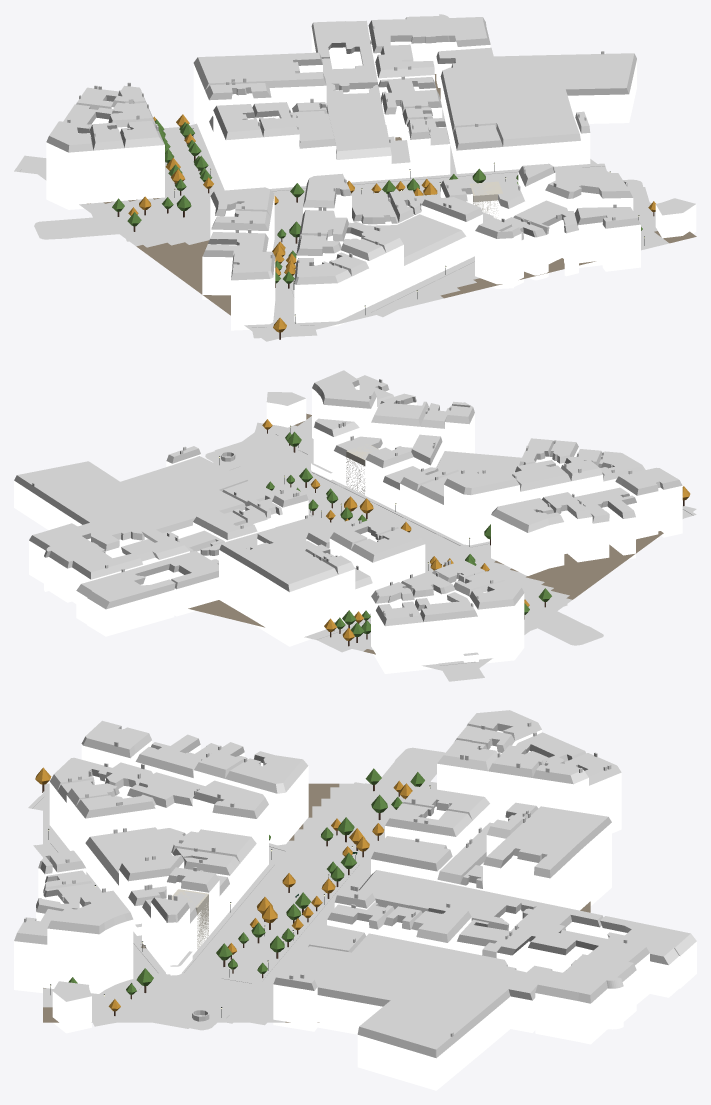
File: zone_A3.glb
The picture shows the model from 3 angles, top to bottom: view 1: azimuth 30°, elevation 25°; view 2: azimuth 150°, elevation 25°; view 3: azimuth 270°, elevation 25°; orthographic projection. The views are drawn at different scales.
Parts seen in each view (by area): view 1: zone_A3_batiments, zone_A3_sol_NOCOL, zone_A3_terrain, zone_A3_decor_NOCOL; view 2: zone_A3_batiments, zone_A3_sol_NOCOL, zone_A3_terrain, zone_A3_decor_NOCOL; view 3: zone_A3_batiments, zone_A3_sol_NOCOL, zone_A3_decor_NOCOL, zone_A3_terrain.
Part boxes in pixels (x1,y1,x2,y2): zone_A3_batiments: (46,14,696,330); zone_A3_sol_NOCOL: (14,104,655,338); zone_A3_terrain: (38,74,696,341); zone_A3_decor_NOCOL: (112,114,655,339); zone_A3_batiments: (14,370,682,673); zone_A3_sol_NOCOL: (205,422,696,681); zone_A3_terrain: (188,413,696,670); zone_A3_decor_NOCOL: (219,419,690,646); zone_A3_batiments: (14,710,696,1090); zone_A3_sol_NOCOL: (28,747,445,1030); zone_A3_decor_NOCOL: (35,767,430,1017); zone_A3_terrain: (43,783,590,1022).
Bounding box in the file's own units: 266 × 28.14 × 228.
